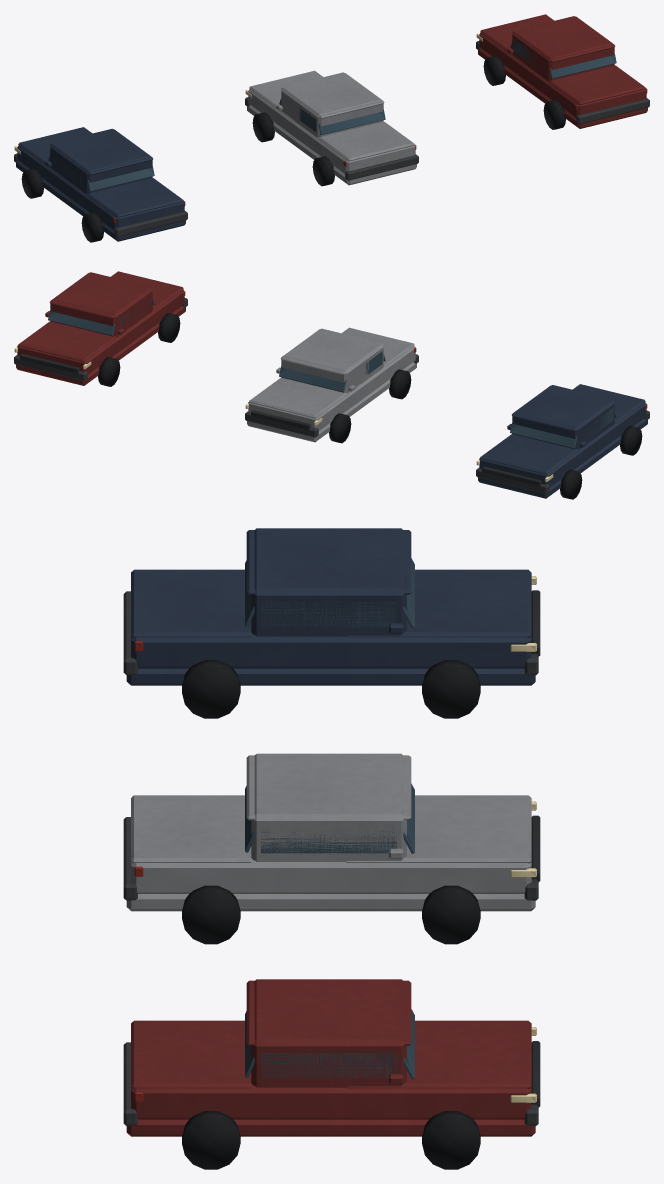
The model's file is parked_car_sedan.glb.
3 renders of one model, top to bottom at view 1: azimuth 30°, elevation 25°; view 2: azimuth 150°, elevation 25°; view 3: azimuth 270°, elevation 25°, orthographic. The views are drawn at different scales.
Visible parts, largest first — view 1: parked_car_sedan_v1, parked_car_sedan_v3, parked_car_sedan_v2; view 2: parked_car_sedan_v1, parked_car_sedan_v3, parked_car_sedan_v2; view 3: parked_car_sedan_v2, parked_car_sedan_v1, parked_car_sedan_v3.
Part boxes in pixels (left/top/right/bottom): parked_car_sedan_v1: left=14, top=127, right=187, bottom=242; parked_car_sedan_v3: left=476, top=14, right=649, bottom=129; parked_car_sedan_v2: left=245, top=70, right=418, bottom=186; parked_car_sedan_v1: left=476, top=384, right=649, bottom=499; parked_car_sedan_v3: left=14, top=271, right=187, bottom=386; parked_car_sedan_v2: left=245, top=327, right=418, bottom=443; parked_car_sedan_v2: left=123, top=753, right=540, bottom=944; parked_car_sedan_v1: left=123, top=528, right=540, bottom=718; parked_car_sedan_v3: left=123, top=979, right=540, bottom=1169.
Bounding box in the file's own units: 14.18 × 1.48 × 4.68.
2 materials, 2 textured.
